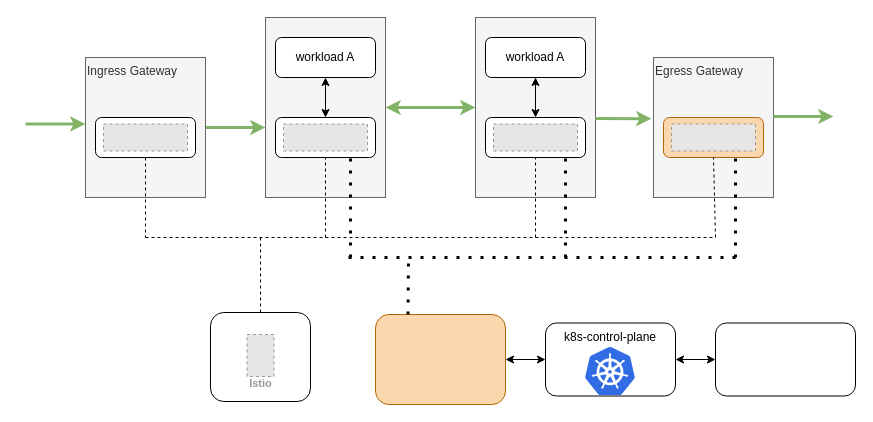
Some shapes in this 873 by 422 pixel diagram are drawn without their labels. Grey dashed boxes stand in for pictures. The shapes that lost their labels are listed below. From the top down, each one's centre as x and y in pixels, then its label:
At point 440,359: "Bumping Certificate Provider".
At point 785,359: "Custom CA Issuer".
